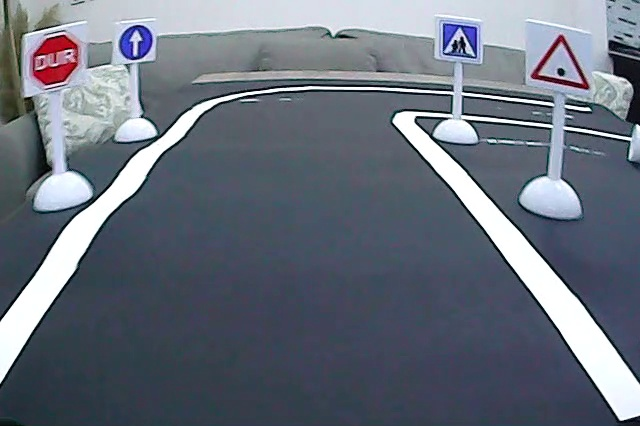green light: (529, 31, 593, 93)
school crossing: (439, 18, 481, 64)
stop sign: (27, 29, 86, 90)
